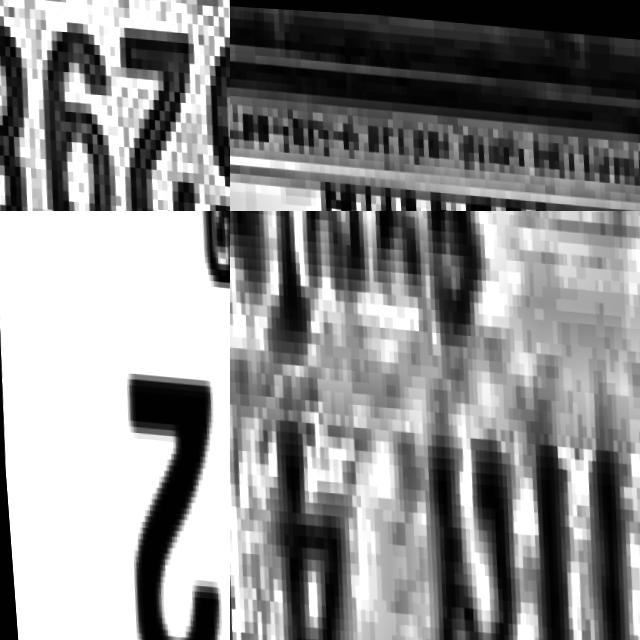license-plate: (230, 211, 640, 640), (0, 211, 230, 640), (230, 0, 640, 211), (0, 0, 230, 211)
